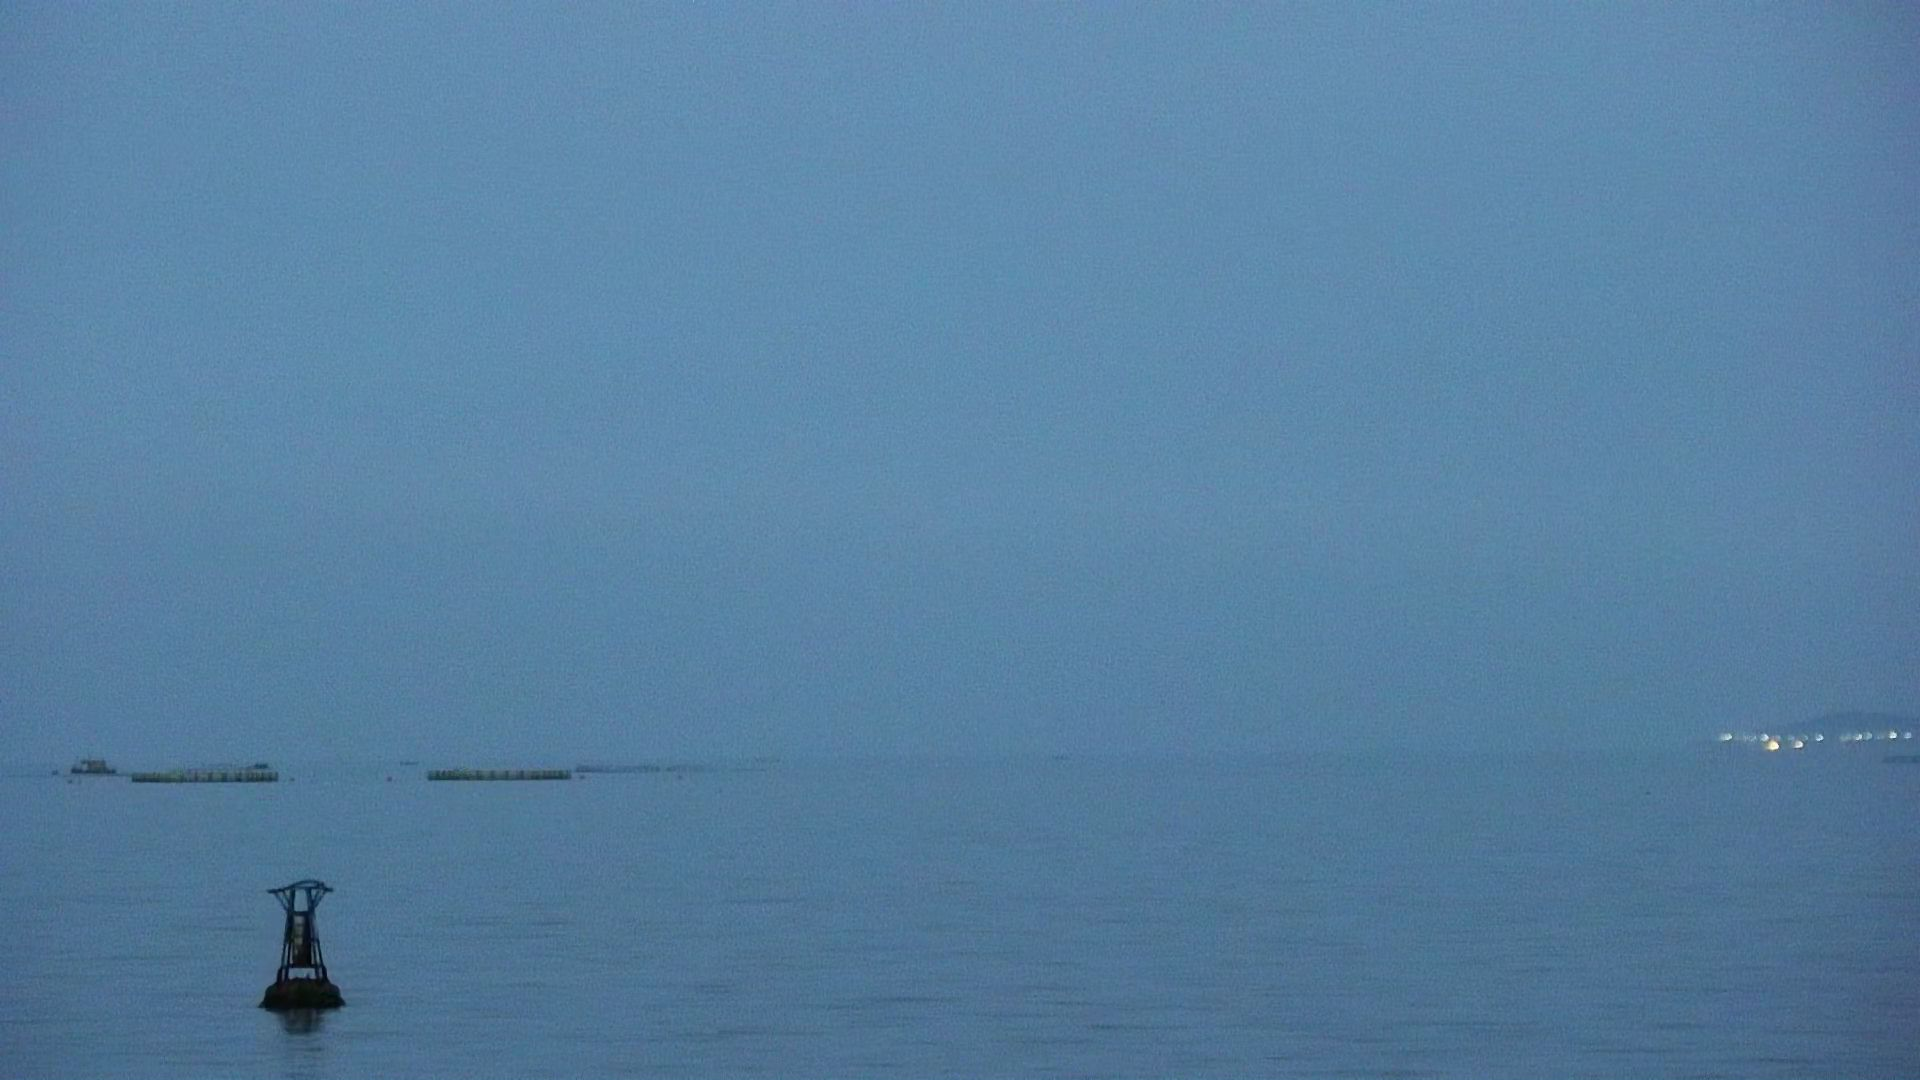buoy: (252, 874, 367, 1031)
platform: (76, 752, 286, 793), (419, 753, 592, 787)
